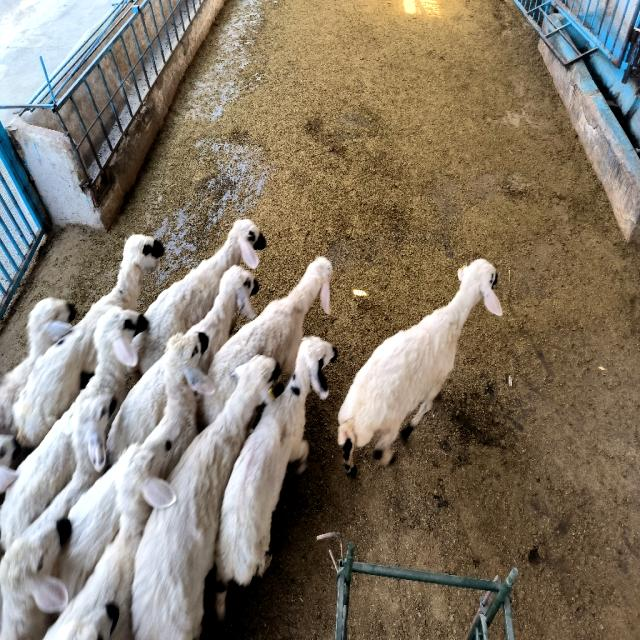sheep: (131, 355, 278, 638), (338, 258, 502, 475), (0, 307, 146, 549), (215, 337, 338, 622), (12, 235, 164, 448), (45, 426, 175, 640), (200, 257, 331, 428), (135, 220, 265, 374), (135, 220, 265, 373), (54, 443, 140, 599), (0, 297, 75, 434), (0, 507, 71, 638), (146, 330, 214, 458), (189, 265, 259, 373), (189, 265, 259, 372), (106, 355, 166, 465)
